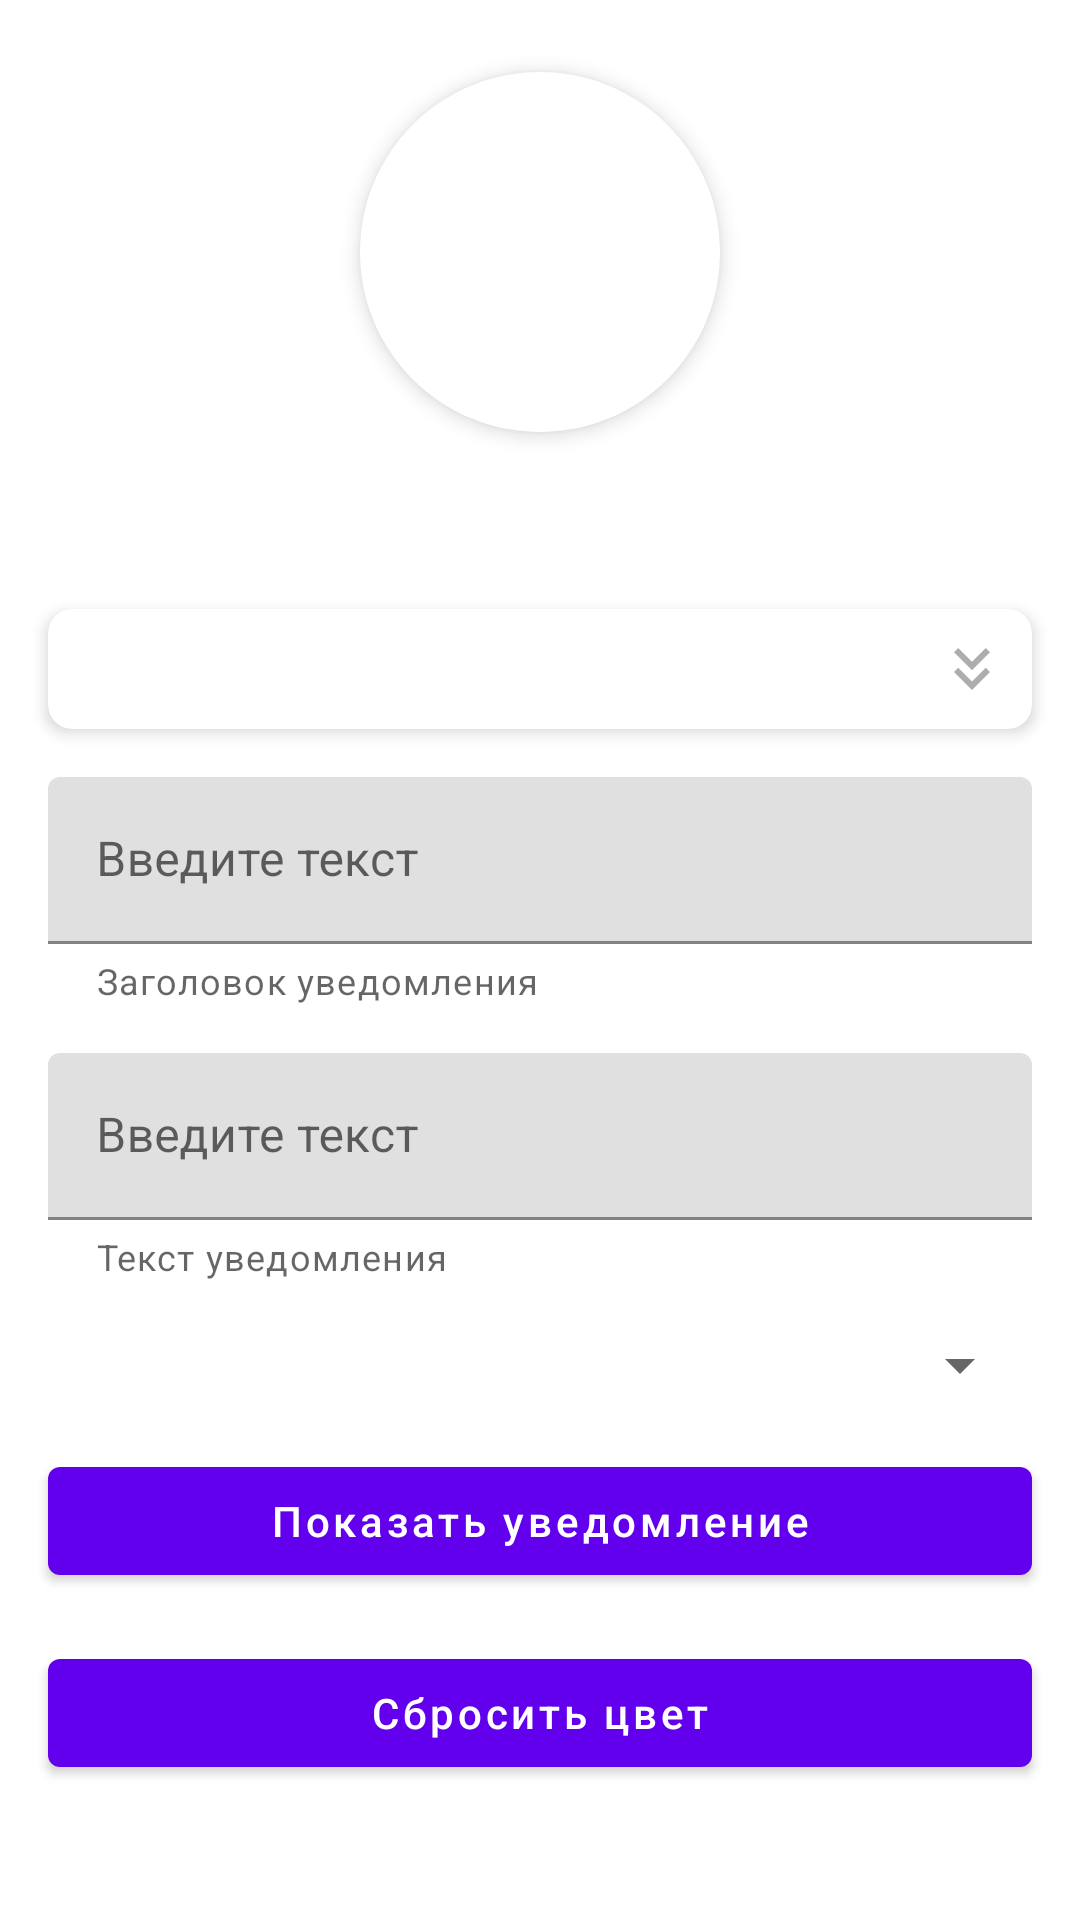

Named icons in this screenshot (1080px×1920px) and their bounding boxes, (x1, y1, x2, y2):
double arrow: (954, 648, 990, 690)
